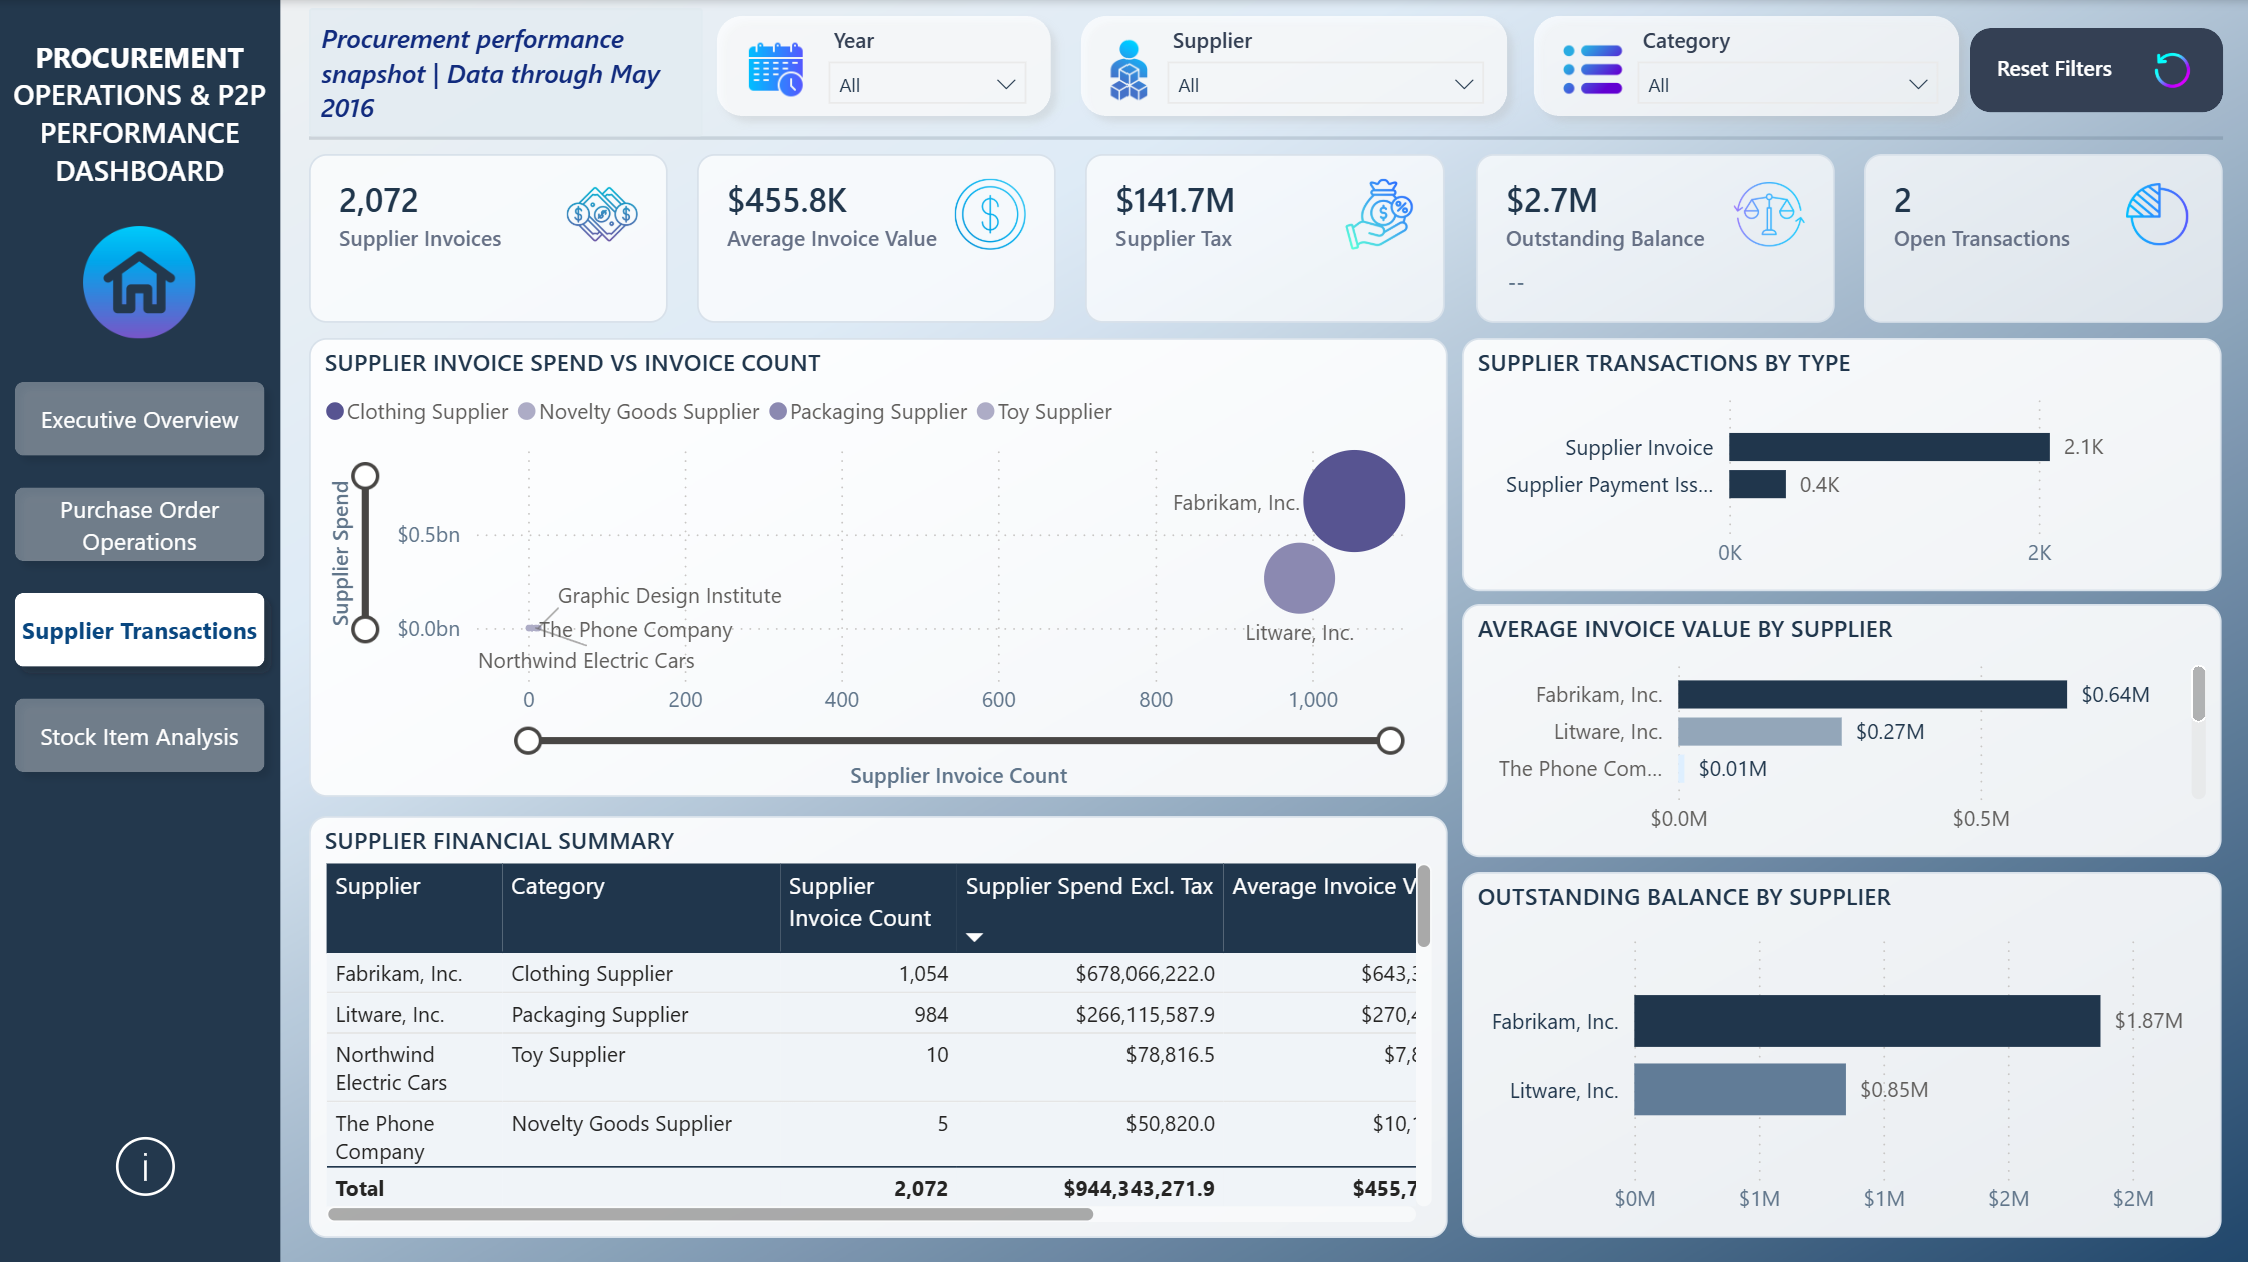

The page's visual inventory and layout, read from the dashboard file:
{"tool":"powerbi","page":{"name":"Supplier Transactions","canvas":[1280,720],"ordinal":2},"visuals":[{"type":"shape","box":[0,0,160,720],"z":0},{"type":"shape","box":[399.7,0,208,75],"z":0,"group":"g3"},{"type":"shape","box":[605.7,0,260,75],"z":0,"group":"g1"},{"type":"shape","box":[863.7,0,260,75],"z":0,"group":"g2"},{"type":"shape","box":[1120,16,144,48],"z":0,"group":"g5"},{"type":"slicer","title":"Year","fields":{"Values":["DimDate.Calendar Year"]},"box":[461.7,25,132.4,40],"z":1000,"group":"g3"},{"type":"slicer","title":"Year","fields":{"Values":["DimSupplier.Supplier"]},"box":[653.7,25,200,40],"z":1000,"group":"g1"},{"type":"slicer","title":"Year","fields":{"Values":["DimSupplier.Category"]},"box":[921.7,25,191,48],"z":1000,"group":"g2"},{"type":"cardVisual","fields":{"Data":["__Measures.Supplier Invoice Count"]},"box":[176,88,204,96],"z":1000},{"type":"image","box":[888.7,4,35,70],"z":2000,"group":"g2"},{"type":"image","box":[424.7,5,35,70],"z":2000,"group":"g3"},{"type":"image","box":[623.7,5,35,70],"z":2000,"group":"g1"},{"type":"cardVisual","fields":{"Data":["__Measures.Supplier Tax"]},"box":[618,88,204,96],"z":2000},{"type":"textbox","box":[470.7,8,56.7,32],"z":3000,"group":"g3"},{"type":"textbox","box":[661.7,8,72,32],"z":3000,"group":"g1"},{"type":"textbox","box":[930.2,8,85.5,32],"z":3000,"group":"g2"},{"type":"cardVisual","fields":{"Data":["__Measures.Outstanding Balance"]},"box":[839,88,204,96],"z":3000},{"type":"cardVisual","fields":{"Data":["__Measures.Transactions with Outstanding Balance"]},"box":[1060,88,204,96],"z":4000},{"type":"pageNavigator","box":[0,208,160,240],"z":5000},{"type":"image","box":[48,128,64,64],"z":6000},{"type":"textbox","box":[0,16,160,112],"z":7000},{"type":"group","id":"g1","title":"Group 1","box":[605.7,0,260,75],"z":8000},{"type":"group","id":"g2","title":"Group 1","box":[863.7,0,260,75],"z":9000},{"type":"group","id":"g3","title":"Group 2","box":[399.7,0,208,75],"z":10000},{"type":"cardVisual","fields":{"Data":["__Measures.Average Invoice Value"]},"box":[397,88,204,96],"z":11000},{"type":"group","id":"g4","title":"Group 4","box":[1120,16,144,48],"z":12000},{"type":"shape","box":[176,71,1088,16],"z":13000},{"type":"actionButton","box":[60,640,46,46],"z":14000},{"type":"textbox","box":[176,5,224,73],"z":15000},{"type":"clusteredBarChart","title":"OUTSTANDING BALANCE BY SUPPLIER","fields":{"Category":["DimSupplier.Supplier"],"Y":["__Measures.Outstanding Balance"]},"box":[832,496,432,208],"z":16000},{"type":"scatterChart","title":"SUPPLIER INVOICE SPEND VS INVOICE COUNT","fields":{"X":["__Measures.Supplier Invoice Count"],"Y":["__Measures.Supplier Spend Excl. Tax"],"Size":["__Measures.Outstanding Balance"],"Category":["DimSupplier.Supplier"],"Series":["DimSupplier.Category"]},"box":[176,192,647,261],"z":17000},{"type":"group","id":"g5","title":"Group 3","box":[1120,16,144,48],"z":18000,"group":"g4"},{"type":"clusteredBarChart","title":"SUPPLIER TRANSACTIONS BY TYPE","fields":{"Category":["DimTransactionType.Transaction Type"],"Y":["__Measures.Supplier Transaction Count"]},"box":[832,192,432,144],"z":18000},{"type":"clusteredBarChart","title":"AVERAGE INVOICE VALUE BY SUPPLIER","fields":{"Y":["__Measures.Average Invoice Value"],"Category":["DimSupplier.Supplier"]},"box":[832,344,432,144],"z":19000},{"type":"image","box":[1225,25,21,30],"z":20000,"group":"g4"},{"type":"tableEx","title":"SUPPLIER FINANCIAL SUMMARY","fields":{"Values":["DimSupplier.Supplier","DimSupplier.Category","__Measures.Supplier Invoice Count","__Measures.Supplier Spend Excl. Tax","__Measures.Average Invoice Value","__Measures.Outstanding Balance","Max(DimSupplier.Payment Days)"]},"box":[176,464,647,240],"z":20000},{"type":"textbox","box":[1120,24,96,32],"z":21000,"group":"g5"}]}

Visuals, with their boxes on the page's 1280x720 design canvas (x1, y1, x2, y2). These are canvas units, not pixel positions in the 2248x1262 screenshot, which may show the page scaled, cropped or inside an application window:
shape: [0,0,160,720]
shape: [400,0,608,75]
shape: [606,0,866,75]
shape: [864,0,1124,75]
shape: [1120,16,1264,64]
"Year" slicer: [462,25,594,65]
"Year" slicer: [654,25,854,65]
"Year" slicer: [922,25,1113,73]
cardVisual - __Measures.Supplier Invoice Count: [176,88,380,184]
image: [889,4,924,74]
image: [425,5,460,75]
image: [624,5,659,75]
cardVisual - __Measures.Supplier Tax: [618,88,822,184]
textbox: [471,8,527,40]
textbox: [662,8,734,40]
textbox: [930,8,1016,40]
cardVisual - __Measures.Outstanding Balance: [839,88,1043,184]
cardVisual - __Measures.Transactions with Outstanding Balance: [1060,88,1264,184]
pageNavigator: [0,208,160,448]
image: [48,128,112,192]
textbox: [0,16,160,128]
"Group 1" group: [606,0,866,75]
"Group 1" group: [864,0,1124,75]
"Group 2" group: [400,0,608,75]
cardVisual - __Measures.Average Invoice Value: [397,88,601,184]
"Group 4" group: [1120,16,1264,64]
shape: [176,71,1264,87]
actionButton: [60,640,106,686]
textbox: [176,5,400,78]
"OUTSTANDING BALANCE BY SUPPLIER" clusteredBarChart: [832,496,1264,704]
"SUPPLIER INVOICE SPEND VS INVOICE COUNT" scatterChart: [176,192,823,453]
"Group 3" group: [1120,16,1264,64]
"SUPPLIER TRANSACTIONS BY TYPE" clusteredBarChart: [832,192,1264,336]
"AVERAGE INVOICE VALUE BY SUPPLIER" clusteredBarChart: [832,344,1264,488]
image: [1225,25,1246,55]
"SUPPLIER FINANCIAL SUMMARY" tableEx: [176,464,823,704]
textbox: [1120,24,1216,56]
